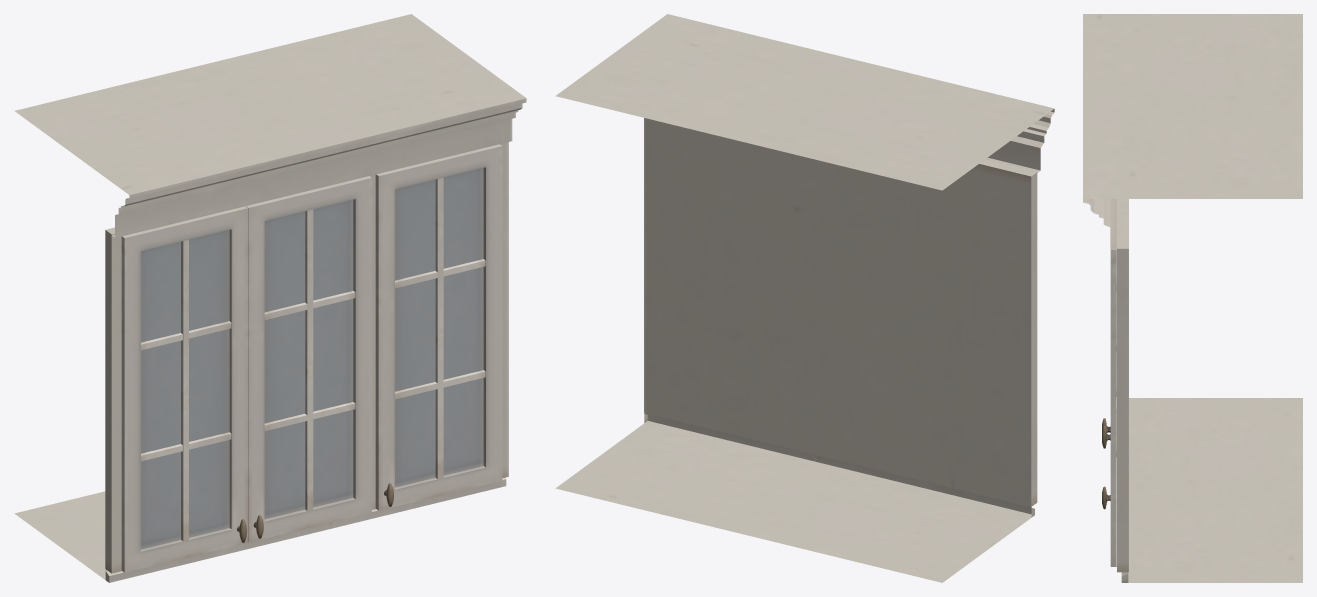
The model's file is KitCabinet_Up_1x_B.FBX.
3 views of the same model, side by side, from view 1: azimuth 30°, elevation 25°; view 2: azimuth 150°, elevation 25°; view 3: azimuth 270°, elevation 25° (orthographic). The views are drawn at different scales.
Parts seen in each view (by area): view 1: KitCabinet_Up_1x_B; view 2: KitCabinet_Up_1x_B; view 3: KitCabinet_Up_1x_B.
Boxes of the visible parts, <box> form: KitCabinet_Up_1x_B: <box>14,14,526,582</box>; KitCabinet_Up_1x_B: <box>555,14,1054,582</box>; KitCabinet_Up_1x_B: <box>1083,14,1302,582</box>.
Bounding box in the file's own units: 100 × 96.83 × 50.21.
